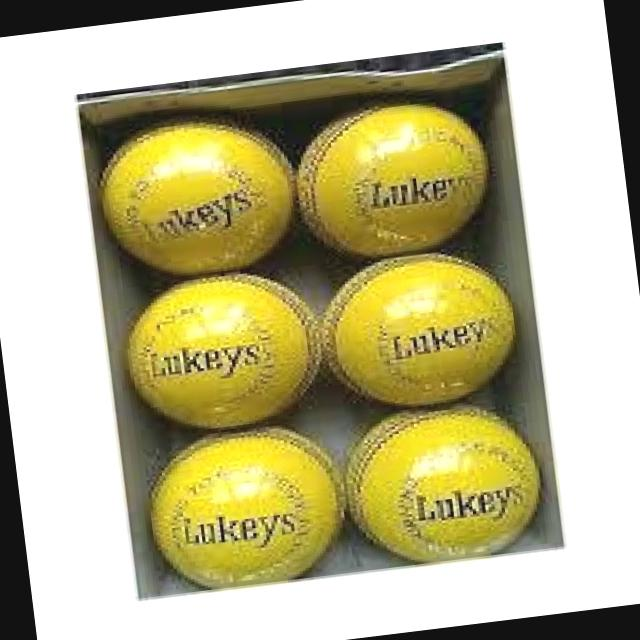ball: (94, 103, 308, 286)
